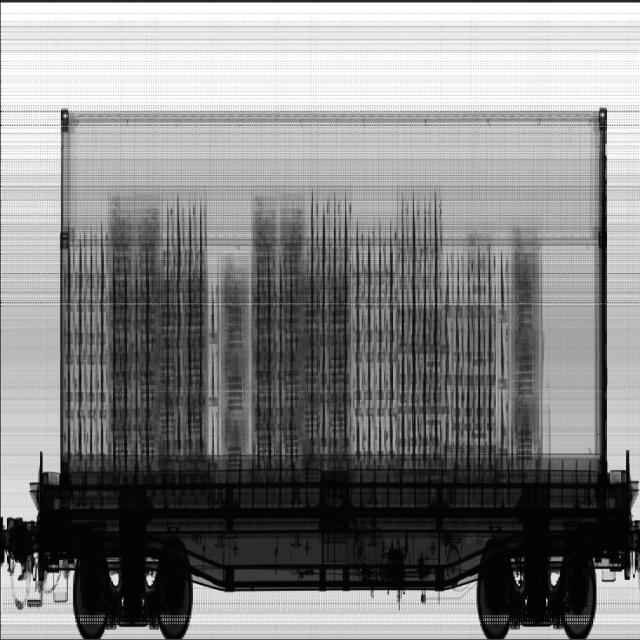spare parts: (65, 189, 252, 466)
